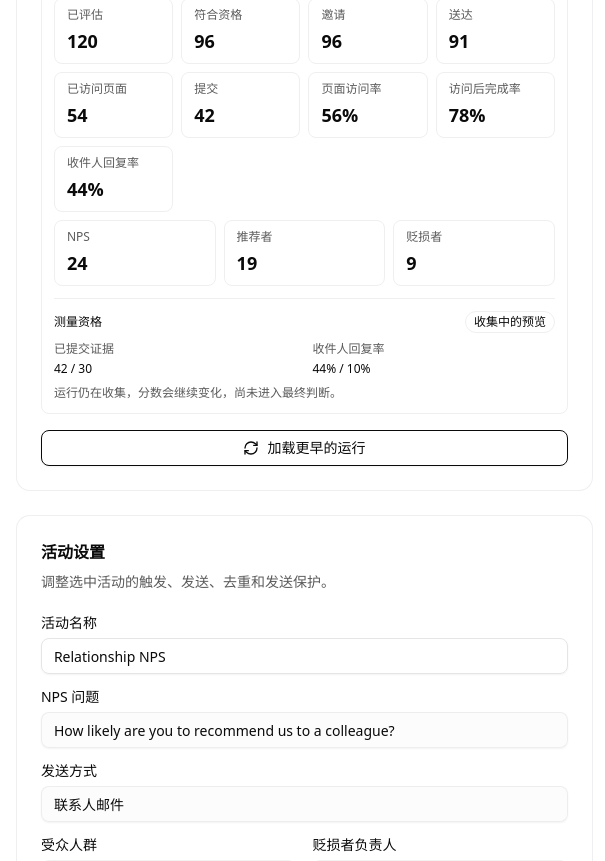
Test: SurveysPage › loads older NPS runs with the stable history cursor
(page scrolled)
Click the button with test id "nps-load-more-runs" at (304, 448), box [41,430,568,466]
(page scrolled)
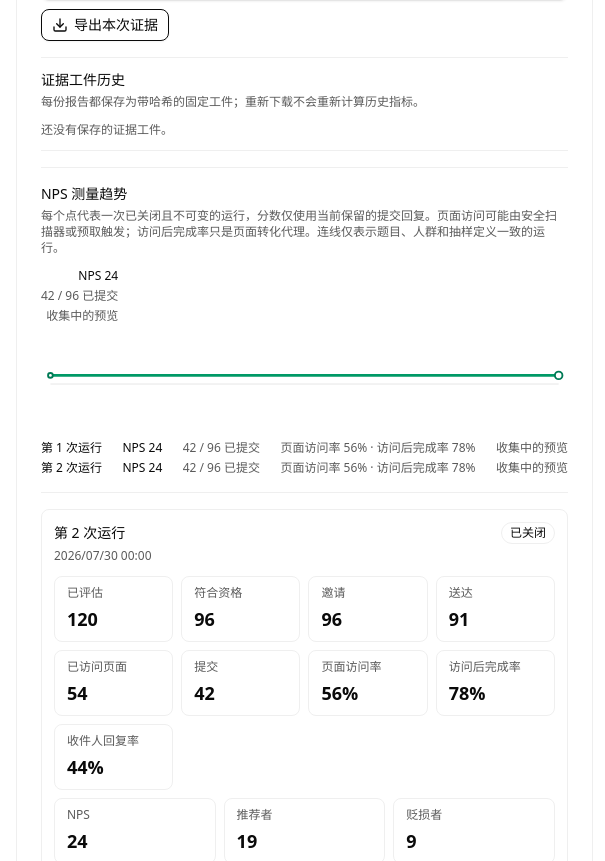
Result: the text "第 1 次运行" is shown at [41,440,102,456]
